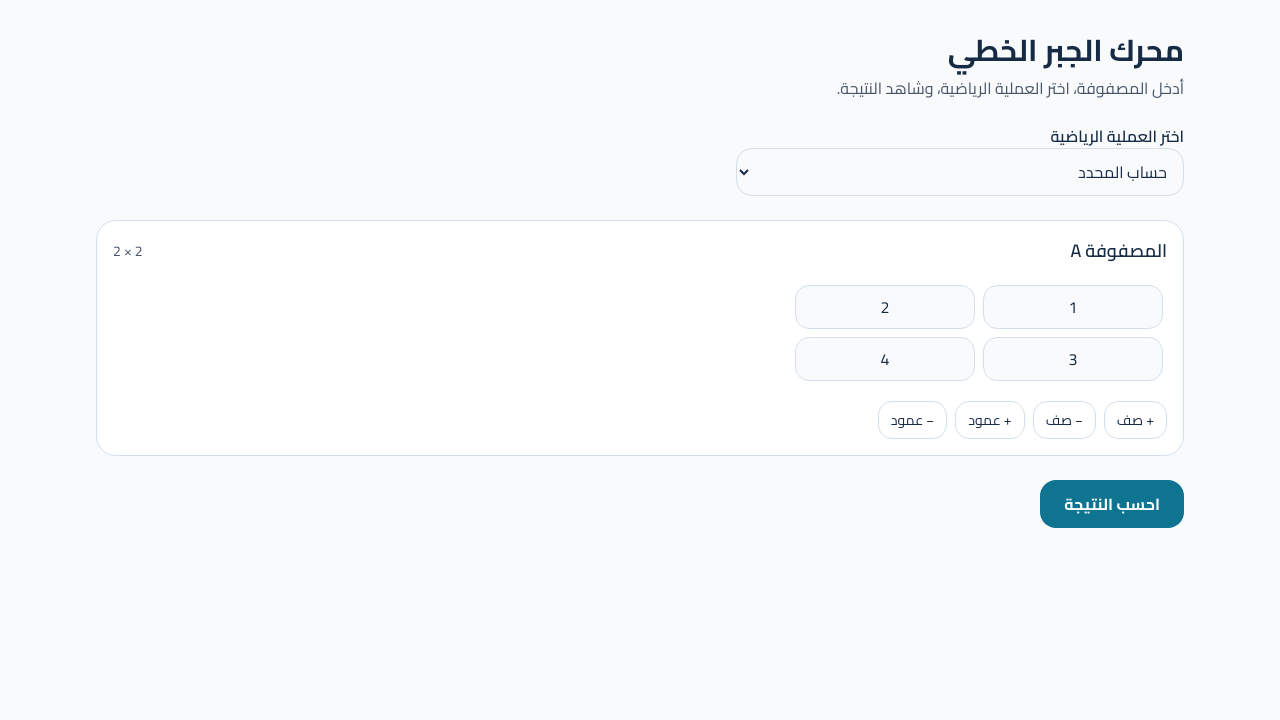
Scenario: Linear Algebra Page Integration › calculates determinant using the real engine
This screenshot has width=1280, height=720.
What coordinates should you click on to do the following:
click the button "احسب النتيجة"
I would click on:
 (1112, 504)
Its box is [1040,480,1184,528].
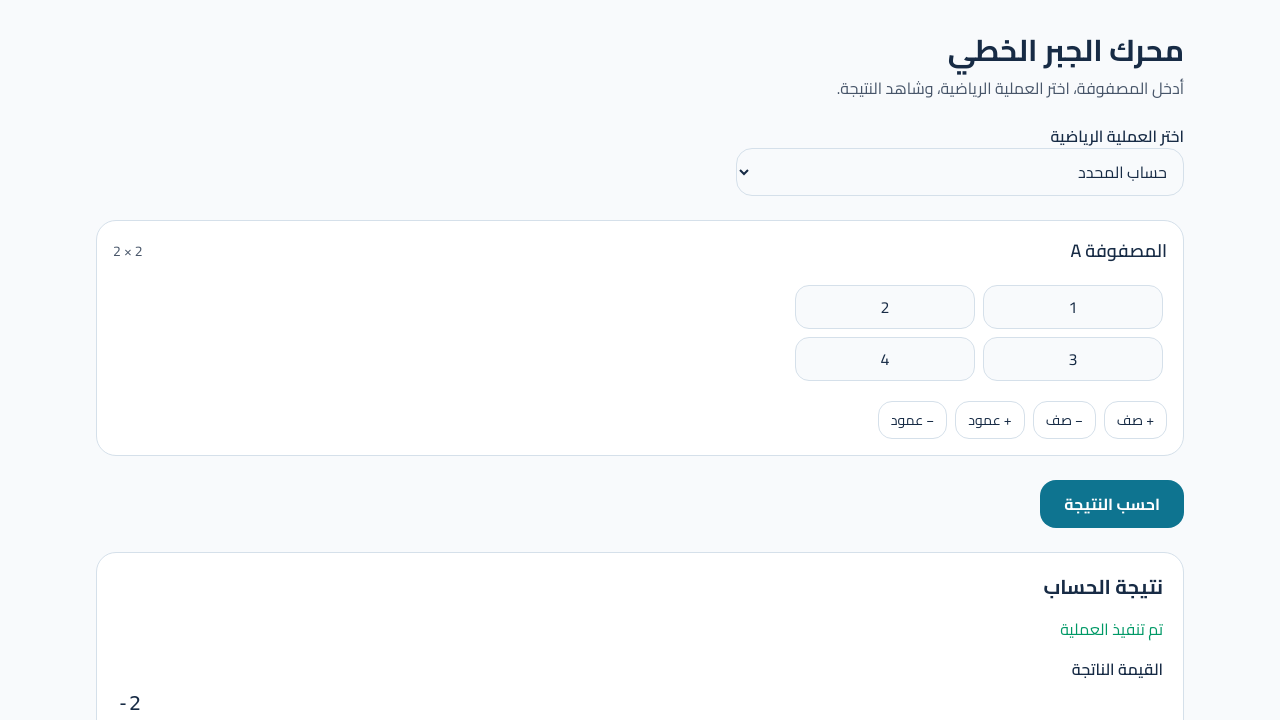
Expected: the text "-2" is shown, [117,691,141,715]
